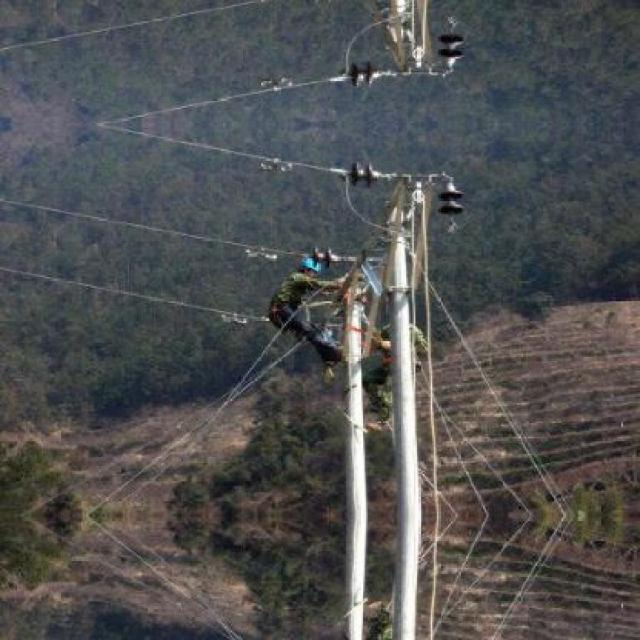helmet: (298, 253, 320, 276)
